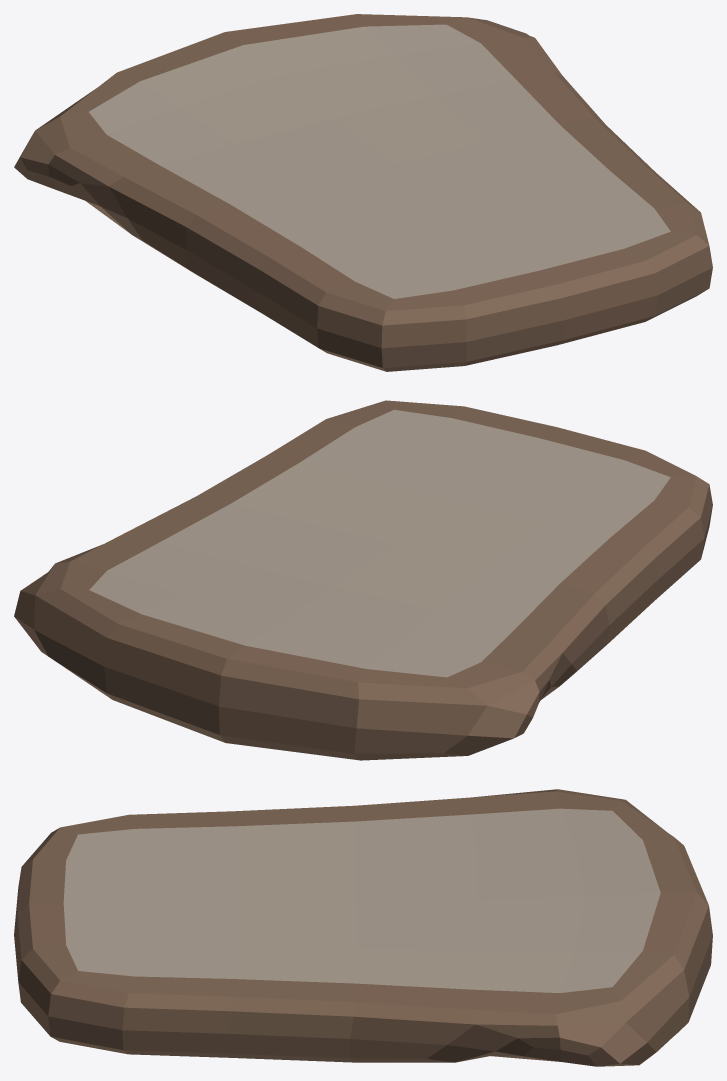
Rendered from Toast.fbx.
The picture shows the model from 3 angles, top to bottom: view 1: azimuth 30°, elevation 25°; view 2: azimuth 150°, elevation 25°; view 3: azimuth 270°, elevation 25°; orthographic projection.
Parts seen in each view (by area): view 1: Plane; view 2: Plane; view 3: Plane.
Boxes of the visible parts, <box> form: Plane: <box>14,14,712,371</box>; Plane: <box>14,400,712,760</box>; Plane: <box>14,789,712,1066</box>.
Size of the model in its own units: 191 by 30.14 by 226.
